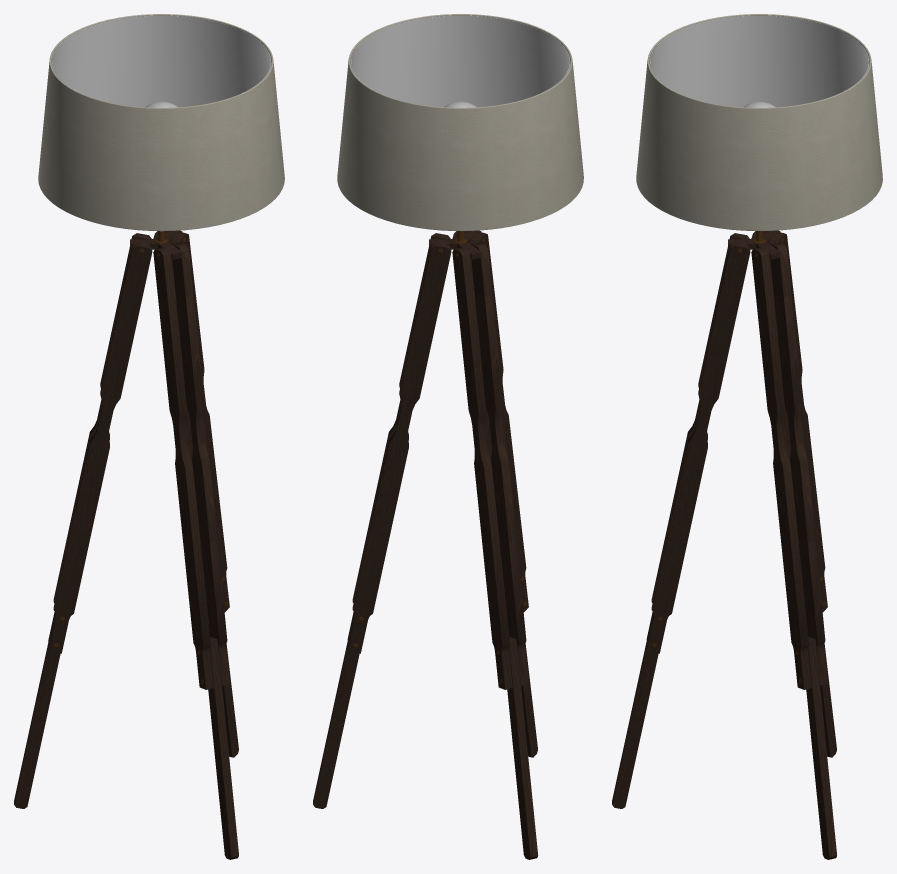
Rendered from divisor_-_tref014.glb.
3 views of the same model, side by side, from view 1: azimuth 30°, elevation 25°; view 2: azimuth 150°, elevation 25°; view 3: azimuth 270°, elevation 25° (orthographic).
Parts seen in each view (by area): view 1: Tref014_TripodLegs, Tref014_LampShade, Tref014_LampShadeInterior; view 2: Tref014_TripodLegs, Tref014_LampShade, Tref014_LampShadeInterior; view 3: Tref014_TripodLegs, Tref014_LampShade, Tref014_LampShadeInterior.
Part boxes in pixels (x1,y1,x2,y2): Tref014_TripodLegs: (14,231,238,859); Tref014_LampShade: (38,14,284,231); Tref014_LampShadeInterior: (51,15,271,107); Tref014_TripodLegs: (313,231,538,859); Tref014_LampShade: (337,14,583,230); Tref014_LampShadeInterior: (350,15,570,107); Tref014_TripodLegs: (612,231,836,859); Tref014_LampShade: (636,14,882,230); Tref014_LampShadeInterior: (649,15,869,107).
Size of the model in its own units: 0.5681 by 1.8 by 0.5923.
11 materials, 2 textured.
